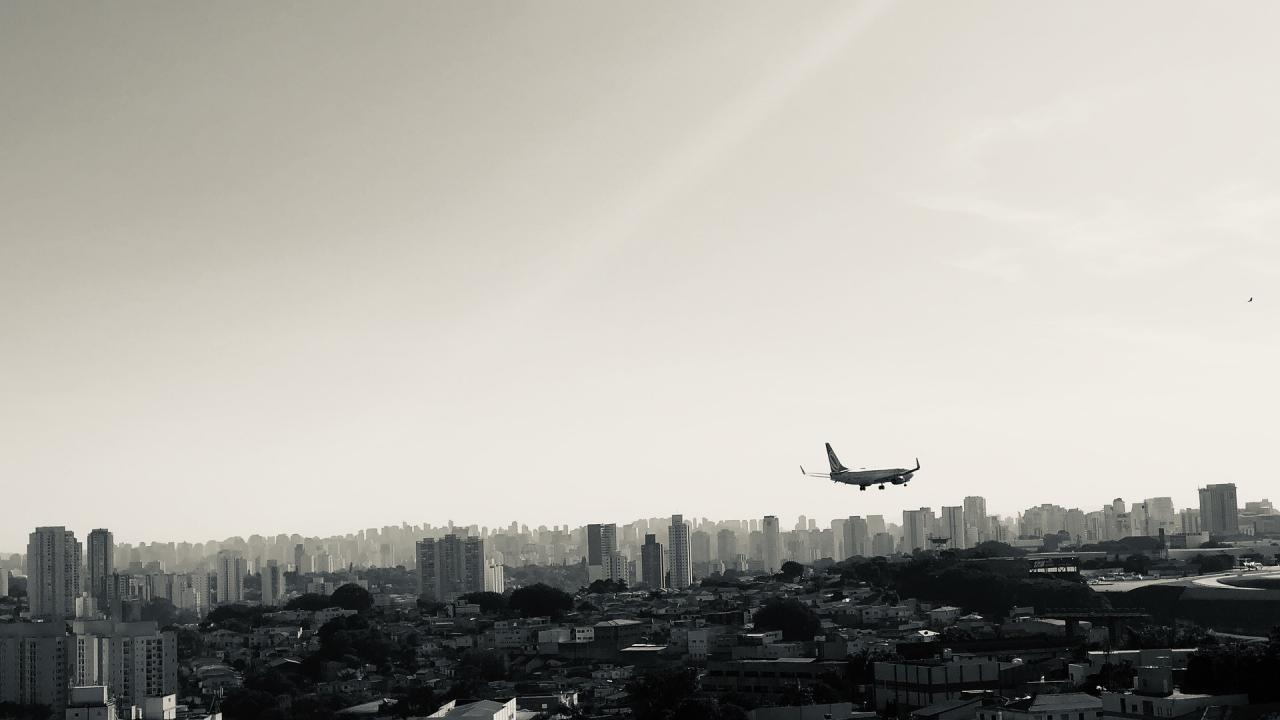Airplane: (790, 428, 936, 505)
